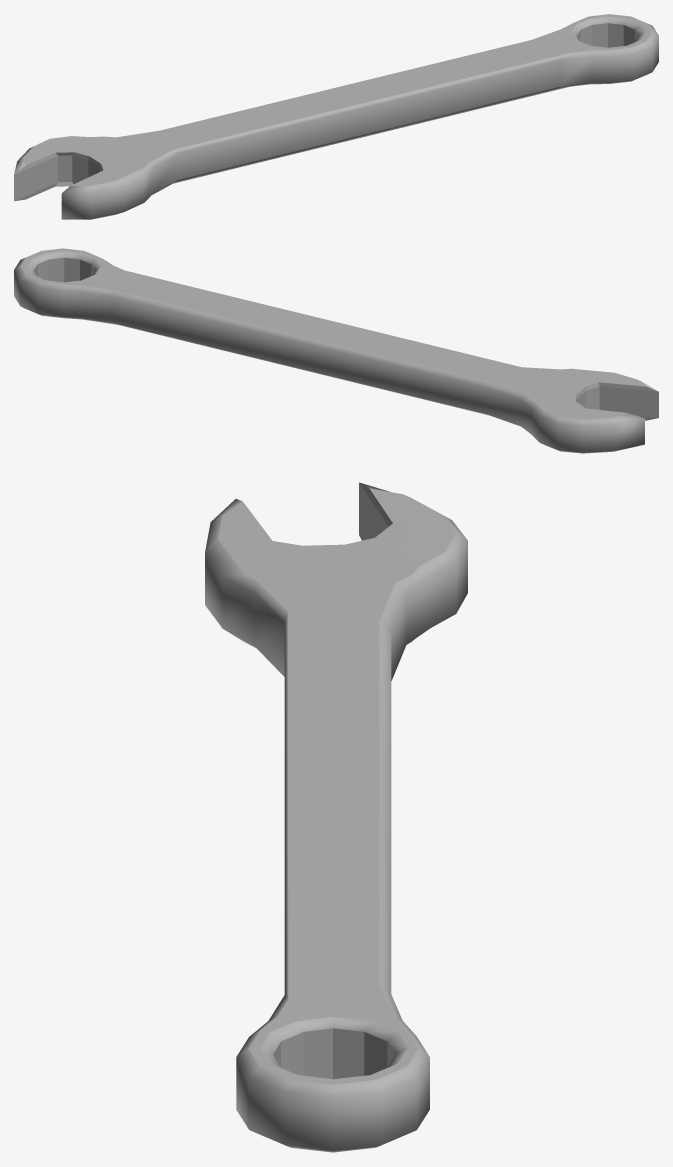
The model's file is wrench_1.glb.
3 views of the same model, one above another, from view 1: azimuth 30°, elevation 25°; view 2: azimuth 150°, elevation 25°; view 3: azimuth 270°, elevation 25° (orthographic). The views are drawn at different scales.
Parts seen in each view (by area): view 1: Wrench 2; view 2: Wrench 2; view 3: Wrench 2.
Boxes of the visible parts, x1=… form: Wrench 2: x1=14, y1=14, x2=658, y2=219; Wrench 2: x1=14, y1=248, x2=658, y2=453; Wrench 2: x1=205, y1=482, x2=467, y2=1152.
Size of the model in its own units: 0.3282 by 0.0169 by 0.0593.
Materials: 1 (1 with a texture image).
